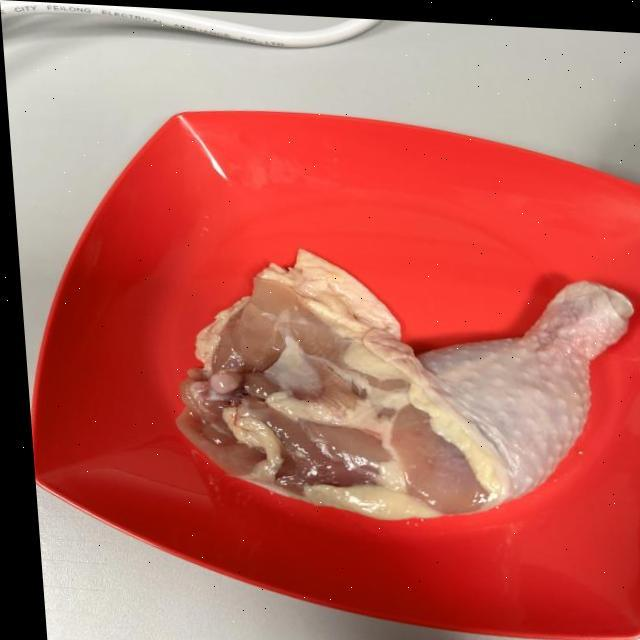quater: (176, 236, 640, 528)
